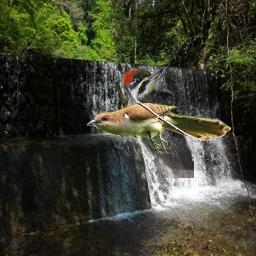Cuckoo: (87, 103, 232, 154)
Woodpecker: (120, 66, 194, 178)
